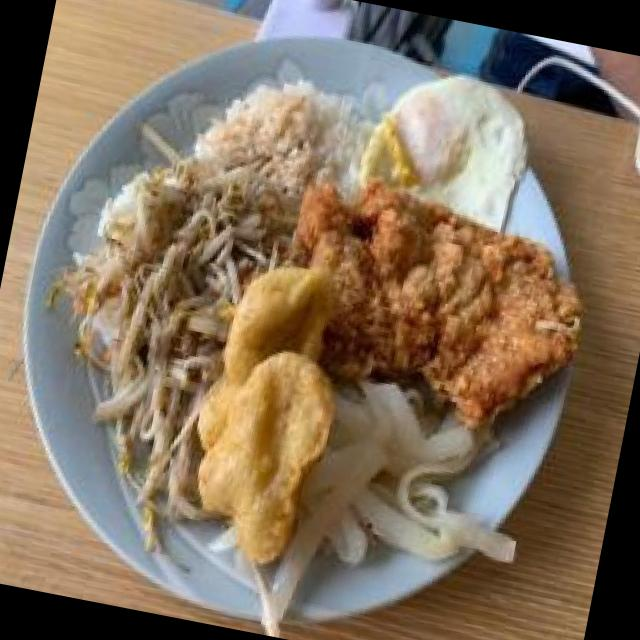chicken_nuggets: (175, 250, 355, 580)
fried_chicken: (286, 180, 600, 448)
fried_eggs: (351, 54, 544, 230)
mung_bean_sprouts: (75, 162, 255, 489)
rice: (208, 74, 370, 194)
